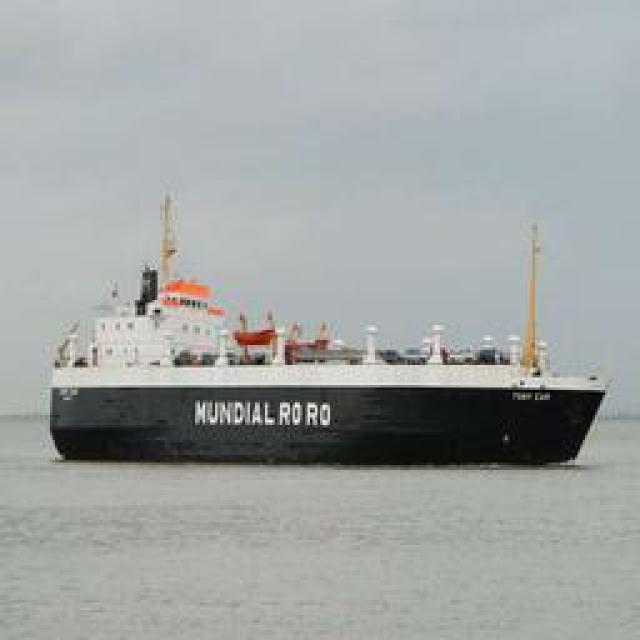ship2: (48, 196, 611, 471)
